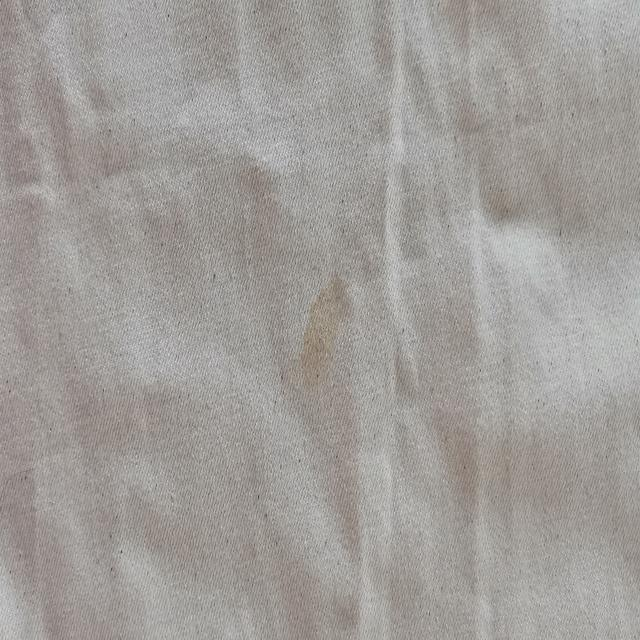taaaches: (301, 271, 352, 405)
